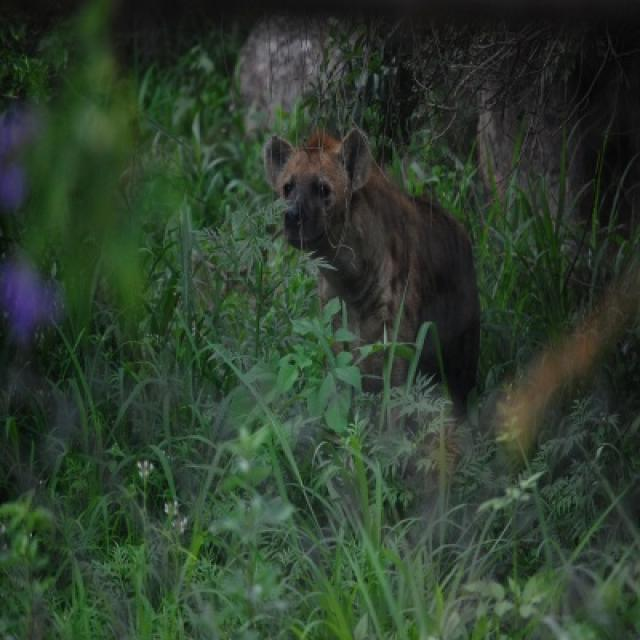hyena: (261, 130, 483, 422)
